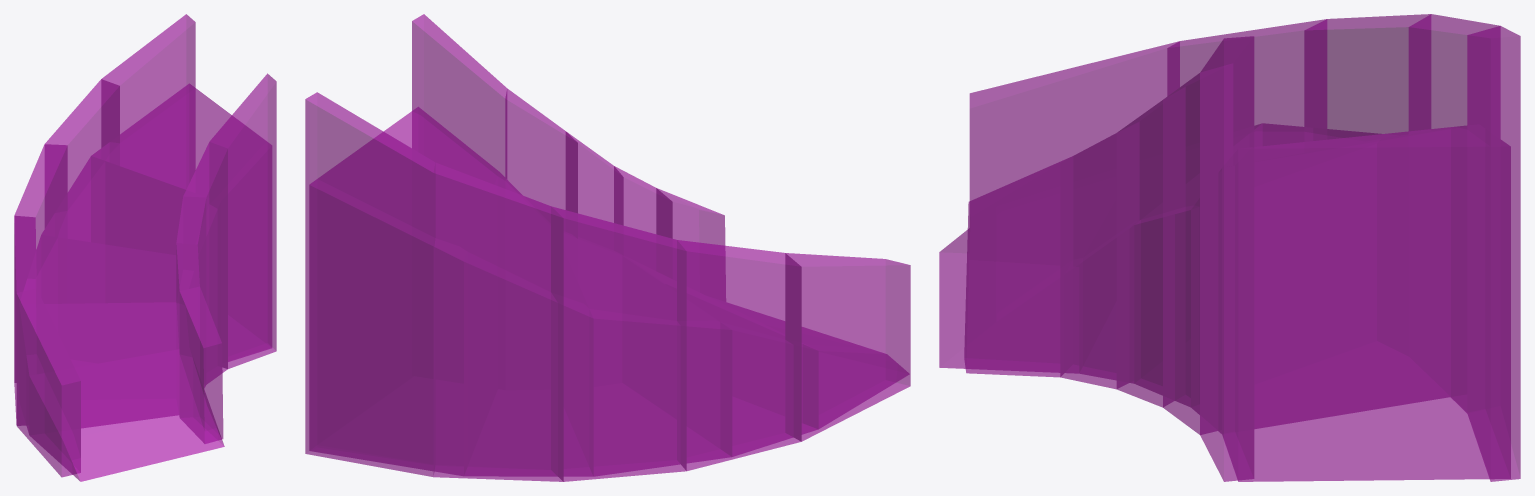
The model's file is SM_Bld_Shrine_Stairs_02_Collision.fbx.
3 renders of one model, left to right at view 1: azimuth 30°, elevation 25°; view 2: azimuth 150°, elevation 25°; view 3: azimuth 270°, elevation 25°, orthographic. The views are drawn at different scales.
Parts seen in each view (by area): view 1: SM_Bld_Shrine_Stairs_02_Collision; view 2: SM_Bld_Shrine_Stairs_02_Collision; view 3: SM_Bld_Shrine_Stairs_02_Collision.
Boxes of the visible parts, bbox=[...] form: SM_Bld_Shrine_Stairs_02_Collision: bbox=[14, 14, 276, 481]; SM_Bld_Shrine_Stairs_02_Collision: bbox=[305, 14, 910, 481]; SM_Bld_Shrine_Stairs_02_Collision: bbox=[939, 14, 1520, 481].
Bounding box in the file's own units: 523 × 464 × 548.
